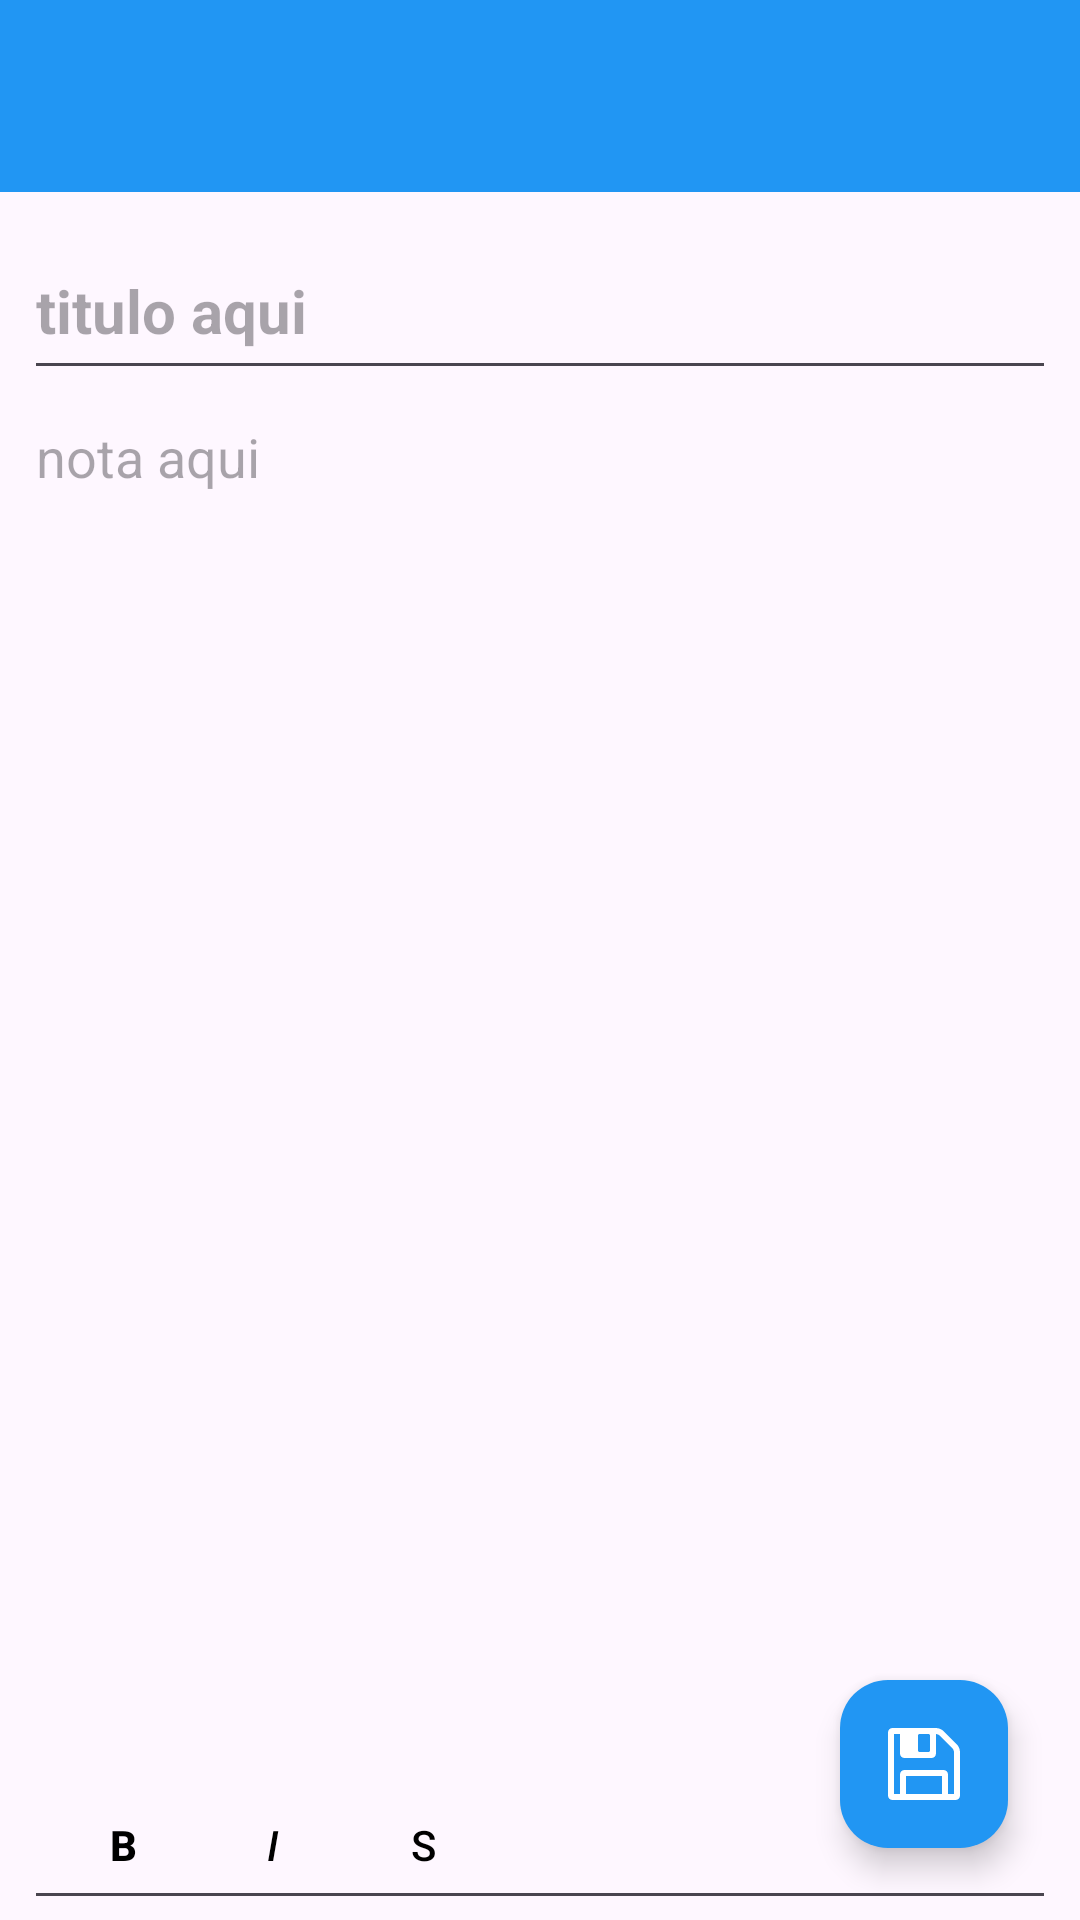

Named icons in this screenshot (1080x1920) and their centers, (x,y):
Esse é o botão para salvar: (924,1764)
